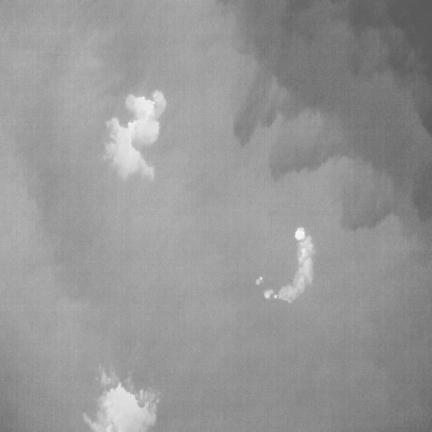flukeprints: (105, 90, 165, 176), (84, 385, 155, 431), (295, 228, 304, 240)
